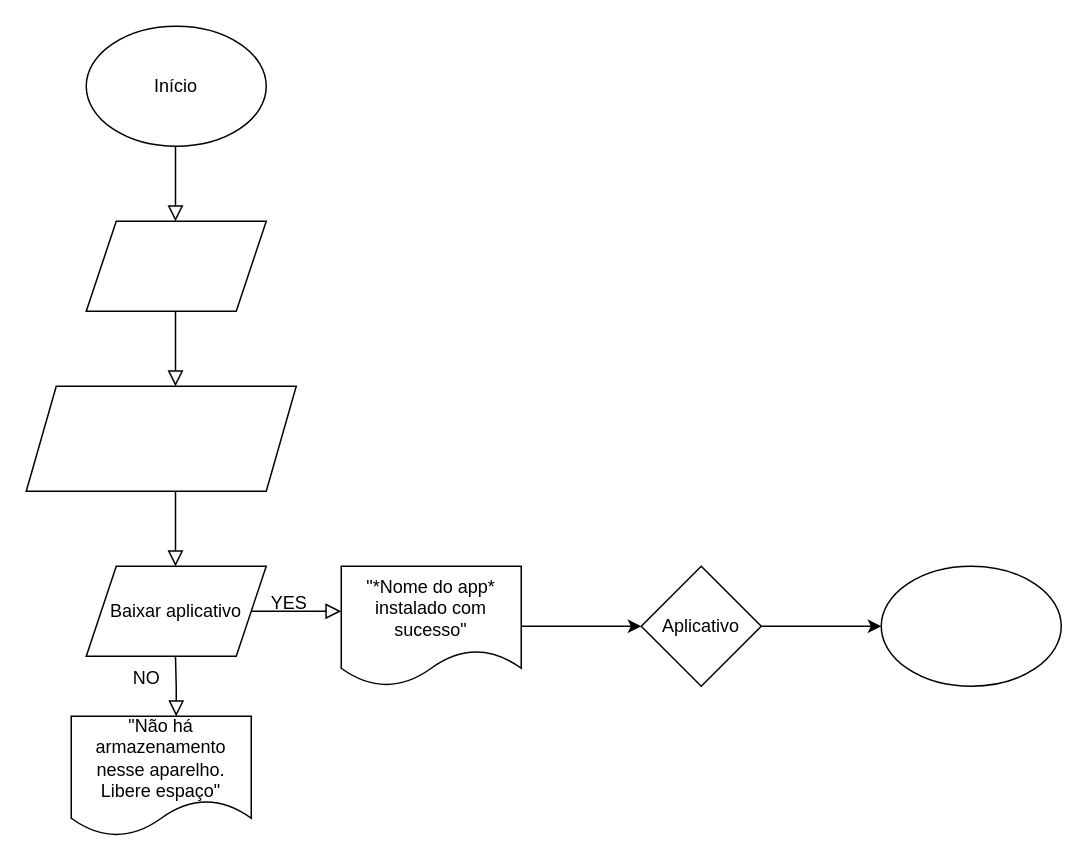
The diagram is 1088 pixels wide and 863 high, and some of its shapes have lost their labels. The box of each missing label's shape, as (x1, y1, x2, y2) in pixels:
Abrir a aba "PlayStore" no seu aparelho: (85, 220, 266, 311)
FIM: (880, 565, 1061, 686)
Pesquisar o nome do app desejado na lupa: (25, 385, 296, 491)
